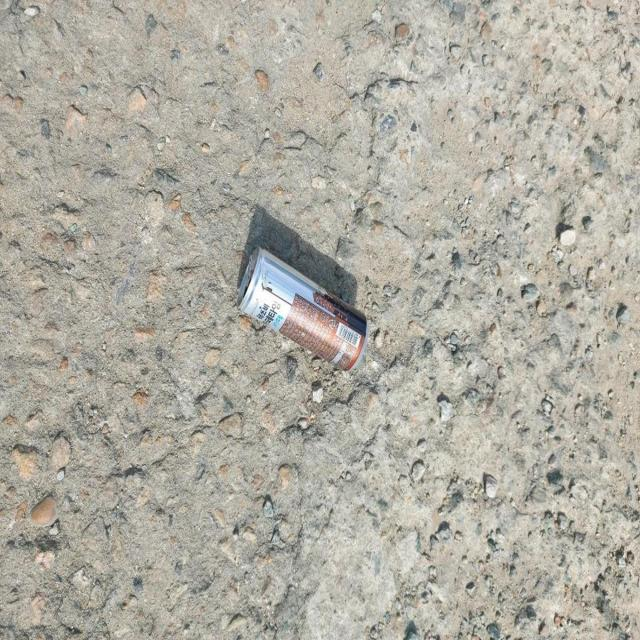can: (237, 246, 369, 370)
